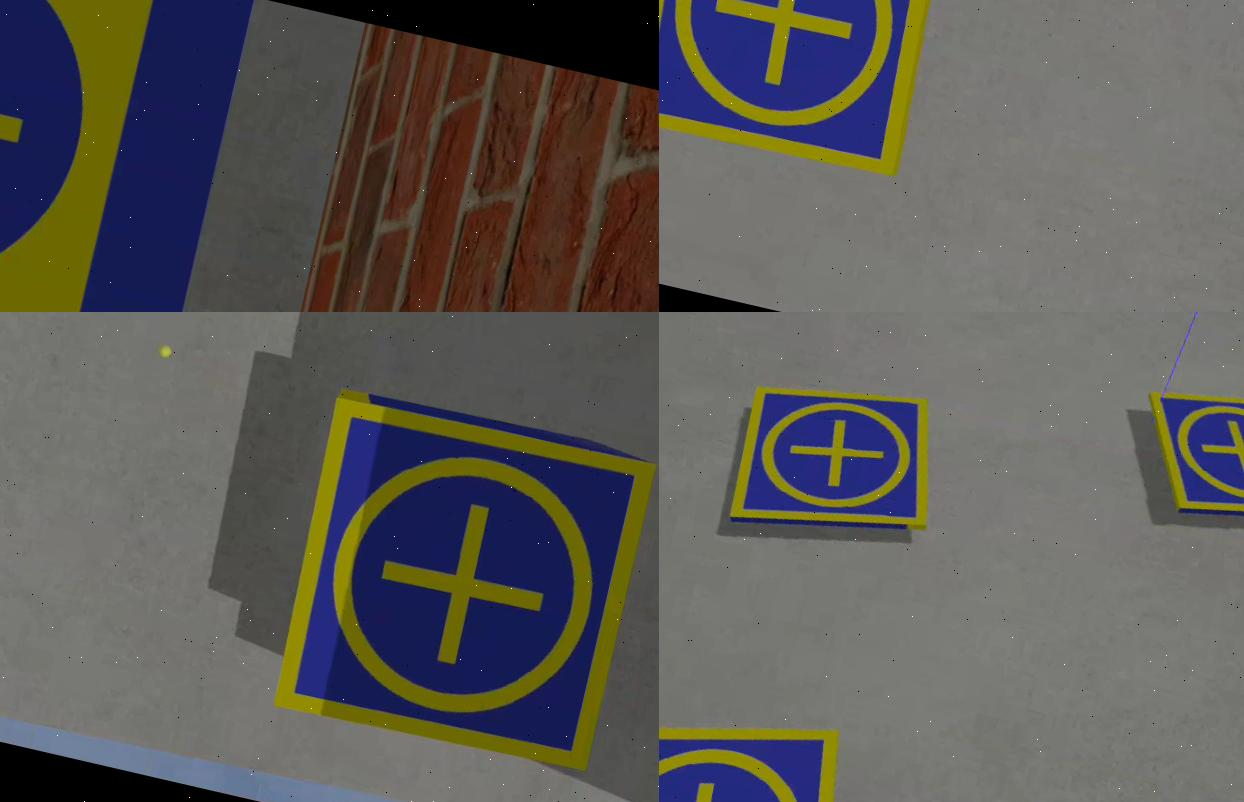large_base: (1, 1, 256, 313)
small_base: (266, 390, 660, 778), (660, 1, 959, 187), (722, 359, 960, 567), (660, 668, 883, 802), (1126, 372, 1244, 547)
